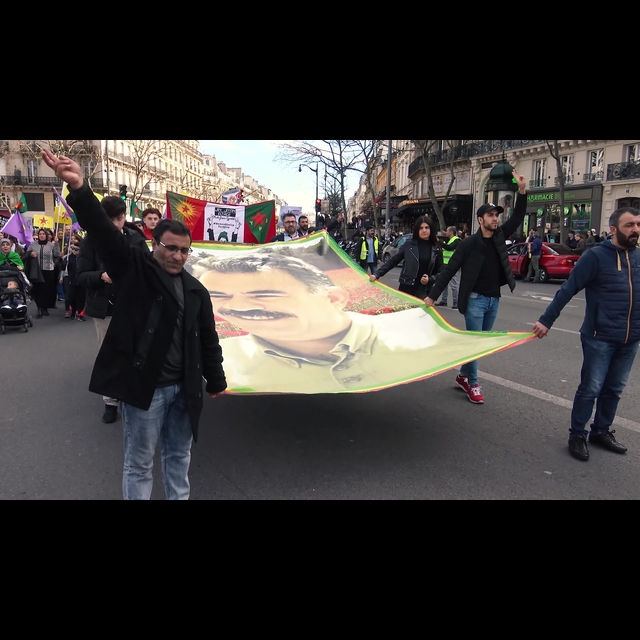ZI: (38, 143, 85, 188), (508, 165, 532, 195)
